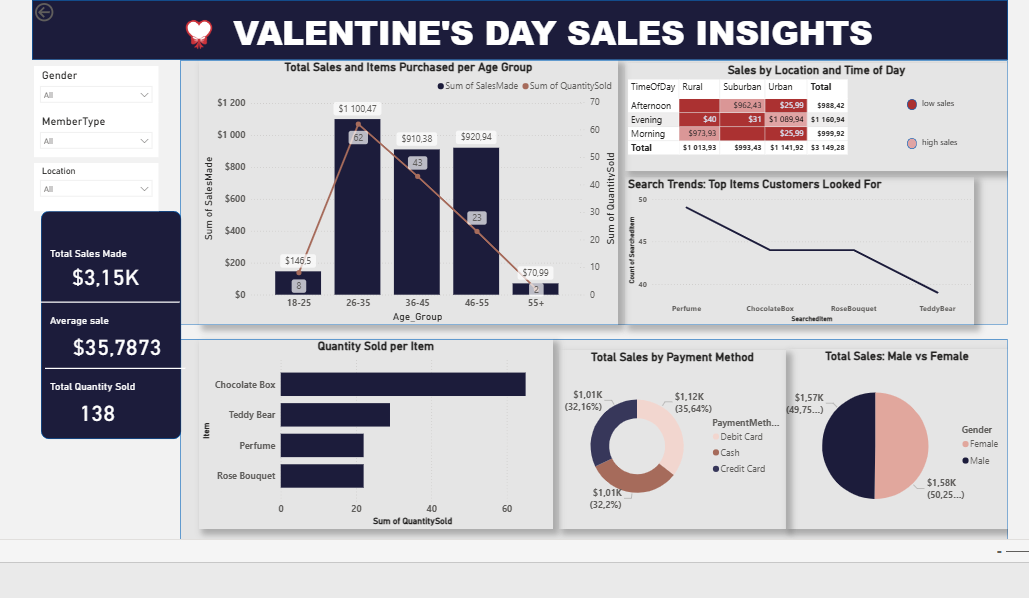

The page's visual inventory and layout, read from the dashboard file:
{"tool":"powerbi","page":{"name":"Page 1","canvas":[1600,900],"ordinal":0},"visuals":[{"type":"shape","box":[242.6,555.7,1357.4,344.3],"z":0},{"type":"shape","box":[242.6,98.4,1357.4,434.4],"z":1000},{"type":"shape","box":[14.1,345.7,230,374],"z":2000},{"type":"slicer","fields":{"Values":["valentines trial.Gender"]},"box":[3.2,107.6,204,75.5],"z":3000},{"type":"slicer","fields":{"Values":["valentines trial.Location"]},"box":[3.2,266.7,204,78.7],"z":4000},{"type":"card","title":"Total Sales Made","fields":{"Values":["Sum(valentines trial.SalesMade)"]},"box":[24.4,404.8,192.8,77.1],"z":5000},{"type":"card","title":"Average sale","fields":{"Values":["Avg(valentines trial.SalesMade)"]},"box":[24.4,514.1,230,83.5],"z":6000},{"type":"lineClusteredColumnComboChart","title":"Total Sales and Items Purchased per Age Group","fields":{"Category":["valentines trial.Age_Group"],"Y":["Sum(valentines trial.SalesMade)"],"Y2":["Sum(valentines trial.QuantitySold)"]},"box":[273.8,98.4,686.9,434.4],"z":7000},{"type":"pieChart","title":"Total Sales: Male vs Female","fields":{"Category":["valentines trial.Gender"],"Y":["Sum(valentines trial.SalesMade)"]},"box":[1236.1,572.1,363.9,295.1],"z":9000},{"type":"clusteredBarChart","title":"Quantity Sold per Item","fields":{"Category":["valentines trial.Item"],"Y":["Sum(valentines trial.QuantitySold)"]},"box":[273.8,555.7,580.3,311.5],"z":9500},{"type":"donutChart","title":"Total Sales by Payment Method","fields":{"Category":["valentines trial.PaymentMethod"],"Y":["Sum(valentines trial.SalesMade)"]},"box":[863.9,573.8,372.1,293.4],"z":10000},{"type":"lineChart","title":"Search Trends: Top Items Customers Looked For","fields":{"Category":["valentines trial unpivot.SearchedItem"],"Y":["CountNonNull(valentines trial unpivot.SearchedItem)"]},"box":[972.1,290.2,572.1,242.6],"z":11000},{"type":"shape","box":[0,0,1600,98.4],"z":12000},{"type":"textbox","title":"VALENTINE''S DAY SALES INSIGHTS","box":[244.2,14.5,1219.3,65.9],"z":13000},{"type":"image","box":[208.2,14.8,131.2,83.6],"z":14000},{"type":"actionButton","box":[0,0,100,40],"z":15000},{"type":"card","title":"Total Quantity Sold","fields":{"Values":["Sum(valentines trial.QuantitySold)"]},"box":[24.4,623.3,164.5,82.2],"z":16000},{"type":"slicer","fields":{"Values":["valentines trial.MemberType"]},"box":[3.2,183.1,204,73.9],"z":17000},{"type":"shape","box":[21.9,556.5,230,96.4],"z":18000},{"type":"shape","box":[15.4,443.4,227.5,105.4],"z":19000},{"type":"pivotTable","title":"Sales by Location and Time of Day","fields":{"Rows":["valentines trial.TimeOfDay"],"Columns":["valentines trial.Location"],"Values":["Sum(valentines trial.SalesMade)"]},"box":[972.1,103.3,627.9,177.1],"z":20000},{"type":"shape","box":[1434.4,162.3,16.4,18],"z":21000},{"type":"shape","box":[1434.4,226.2,16.4,18],"z":22000},{"type":"textbox","box":[1454.1,154.1,91.8,34.4],"z":23000},{"type":"textbox","box":[1454.1,218,90.2,34.4],"z":24000}]}

Visuals, with their boxes in screenshot pixels (x1, y1, x2, y2):
shape: {"left": 178, "top": 337, "right": 1008, "bottom": 548}
shape: {"left": 178, "top": 58, "right": 1008, "bottom": 323}
shape: {"left": 38, "top": 209, "right": 179, "bottom": 438}
slicer - valentines trial.Gender: {"left": 31, "top": 63, "right": 156, "bottom": 109}
slicer - valentines trial.Location: {"left": 31, "top": 160, "right": 156, "bottom": 209}
"Total Sales Made" card: {"left": 44, "top": 245, "right": 162, "bottom": 292}
"Average sale" card: {"left": 44, "top": 312, "right": 185, "bottom": 363}
"Total Sales and Items Purchased per Age Group" lineClusteredColumnComboChart: {"left": 197, "top": 58, "right": 617, "bottom": 323}
"Total Sales: Male vs Female" pieChart: {"left": 786, "top": 347, "right": 1008, "bottom": 528}
"Quantity Sold per Item" clusteredBarChart: {"left": 197, "top": 337, "right": 552, "bottom": 528}
"Total Sales by Payment Method" donutChart: {"left": 558, "top": 348, "right": 786, "bottom": 528}
"Search Trends: Top Items Customers Looked For" lineChart: {"left": 624, "top": 175, "right": 974, "bottom": 323}
shape: {"left": 29, "top": 0, "right": 1008, "bottom": 58}
"VALENTINE''S DAY SALES INSIGHTS" textbox: {"left": 179, "top": 6, "right": 925, "bottom": 47}
image: {"left": 157, "top": 6, "right": 237, "bottom": 58}
actionButton: {"left": 29, "top": 0, "right": 91, "bottom": 22}
"Total Quantity Sold" card: {"left": 44, "top": 379, "right": 145, "bottom": 429}
slicer - valentines trial.MemberType: {"left": 31, "top": 109, "right": 156, "bottom": 155}
shape: {"left": 43, "top": 338, "right": 184, "bottom": 397}
shape: {"left": 39, "top": 269, "right": 178, "bottom": 333}
"Sales by Location and Time of Day" pivotTable: {"left": 624, "top": 61, "right": 1008, "bottom": 169}
shape: {"left": 907, "top": 97, "right": 917, "bottom": 108}
shape: {"left": 907, "top": 136, "right": 917, "bottom": 147}
textbox: {"left": 919, "top": 92, "right": 975, "bottom": 113}
textbox: {"left": 919, "top": 131, "right": 974, "bottom": 152}
